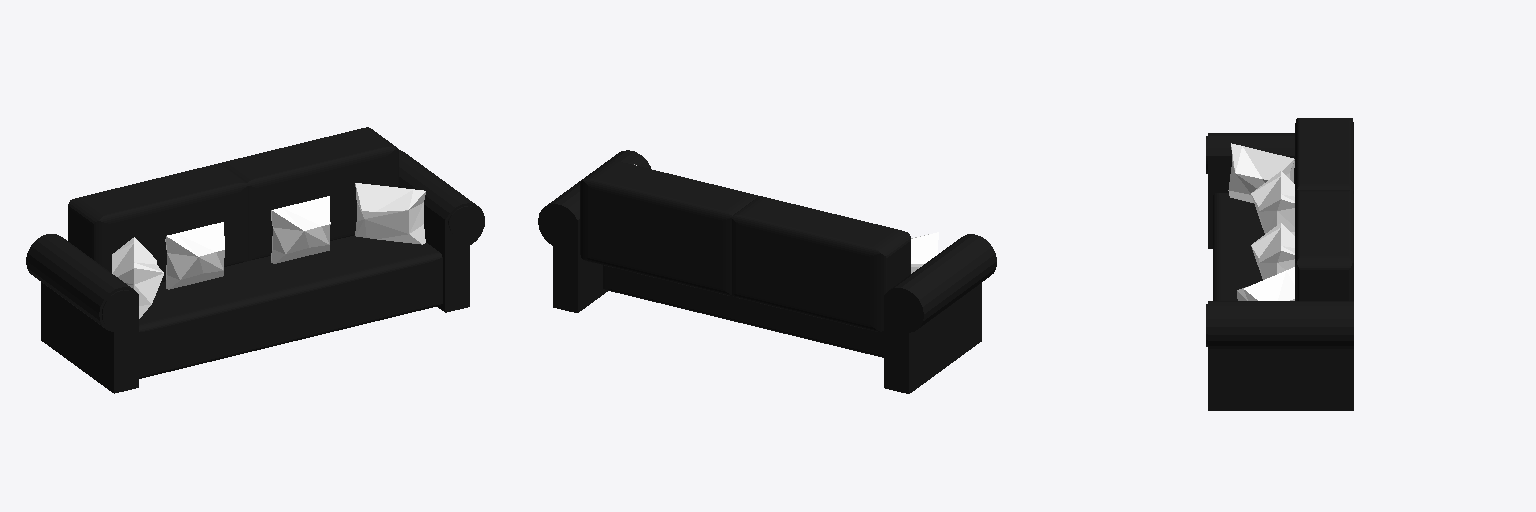
The picture shows the model from 3 angles: view 1: azimuth 30°, elevation 25°; view 2: azimuth 150°, elevation 25°; view 3: azimuth 270°, elevation 25°; orthographic projection.
Parts seen in each view (by area): view 1: Mesh1_Group2_Group1_Model, Mesh2_Group3_Group1_Model, Mesh5_Component_1_2_Group1_Model, Mesh4_Component_1_1_Group1_Model, Mesh3_Pillow1_Group1_Model, Mesh7_Pillow3_Group1_Model, Mesh6_Pillow2_Group1_Model, Mesh8_Pillow4_Group1_Model; view 2: Mesh2_Group3_Group1_Model, Mesh5_Component_1_2_Group1_Model, Mesh1_Group2_Group1_Model, Mesh4_Component_1_1_Group1_Model, Mesh8_Pillow4_Group1_Model; view 3: Mesh4_Component_1_1_Group1_Model, Mesh2_Group3_Group1_Model, Mesh1_Group2_Group1_Model, Mesh5_Component_1_2_Group1_Model, Mesh8_Pillow4_Group1_Model, Mesh6_Pillow2_Group1_Model, Mesh7_Pillow3_Group1_Model, Mesh3_Pillow1_Group1_Model.
Boxes of the visible parts, x1,y1,x2,y2 form: Mesh1_Group2_Group1_Model: [139, 235, 442, 378]; Mesh2_Group3_Group1_Model: [68, 127, 398, 281]; Mesh5_Component_1_2_Group1_Model: [26, 234, 138, 393]; Mesh4_Component_1_1_Group1_Model: [399, 150, 484, 312]; Mesh3_Pillow1_Group1_Model: [355, 183, 425, 244]; Mesh7_Pillow3_Group1_Model: [271, 196, 330, 263]; Mesh6_Pillow2_Group1_Model: [165, 222, 224, 289]; Mesh8_Pillow4_Group1_Model: [112, 237, 163, 318]; Mesh2_Group3_Group1_Model: [580, 160, 910, 331]; Mesh5_Component_1_2_Group1_Model: [884, 234, 996, 393]; Mesh1_Group2_Group1_Model: [603, 265, 883, 357]; Mesh4_Component_1_1_Group1_Model: [538, 150, 650, 312]; Mesh8_Pillow4_Group1_Model: [911, 232, 938, 273]; Mesh4_Component_1_1_Group1_Model: [1206, 301, 1353, 410]; Mesh2_Group3_Group1_Model: [1295, 118, 1353, 300]; Mesh1_Group2_Group1_Model: [1213, 193, 1264, 300]; Mesh5_Component_1_2_Group1_Model: [1206, 133, 1294, 248]; Mesh8_Pillow4_Group1_Model: [1228, 143, 1294, 202]; Mesh6_Pillow2_Group1_Model: [1251, 171, 1294, 235]; Mesh7_Pillow3_Group1_Model: [1251, 223, 1294, 279]; Mesh3_Pillow1_Group1_Model: [1237, 267, 1294, 300].
Bounding box in the file's own units: 73.27 × 24.59 × 24.34.